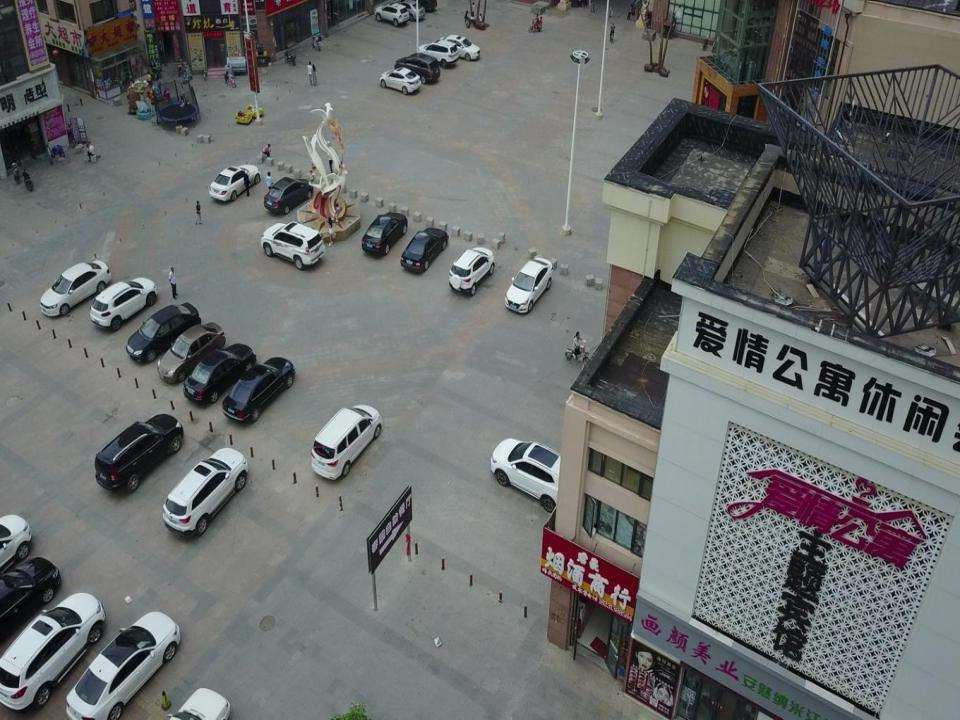car: (0, 592, 105, 714), (65, 610, 181, 719), (162, 447, 250, 539), (95, 413, 184, 492), (490, 437, 572, 515), (310, 404, 383, 481), (0, 557, 61, 644), (222, 356, 295, 425), (124, 302, 202, 364), (182, 342, 256, 406), (157, 321, 226, 385), (39, 259, 112, 317), (90, 276, 158, 331), (260, 222, 325, 271), (504, 256, 553, 312), (399, 227, 449, 274), (160, 687, 230, 720), (449, 246, 495, 296), (360, 212, 408, 257), (209, 164, 261, 203), (0, 514, 32, 575), (264, 177, 314, 215), (393, 52, 441, 84), (378, 67, 422, 95), (436, 35, 481, 61), (419, 42, 458, 69), (374, 2, 410, 27), (392, 0, 426, 22)
